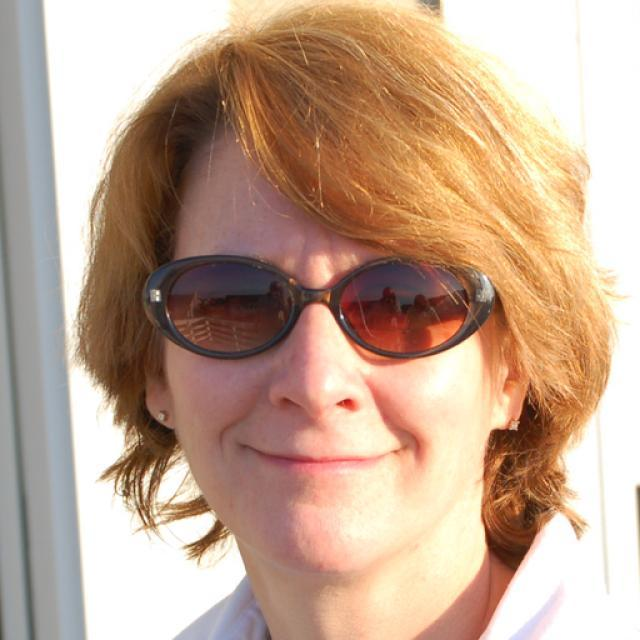happy: (167, 149, 493, 580)
